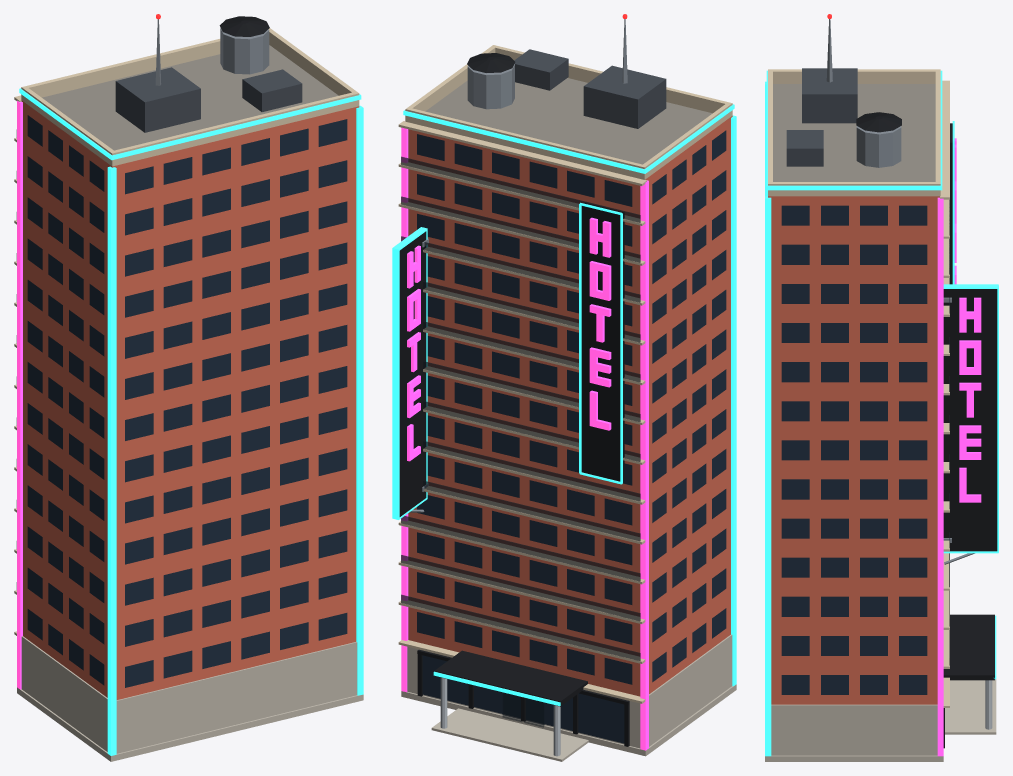
Rendered from hotel.glb.
The picture shows the model from 3 angles, left to right: view 1: azimuth 30°, elevation 25°; view 2: azimuth 150°, elevation 25°; view 3: azimuth 270°, elevation 25°; orthographic projection. The views are drawn at different scales.
Parts seen in each view (by area): view 1: Body; view 2: Body; view 3: Body.
Boxes of the visible parts, <box> form: Body: <box>14,14,363,761</box>; Body: <box>392,14,736,761</box>; Body: <box>765,14,998,761</box>.
Bounding box in the file's own units: 22.5 × 59.82 × 18.97.
